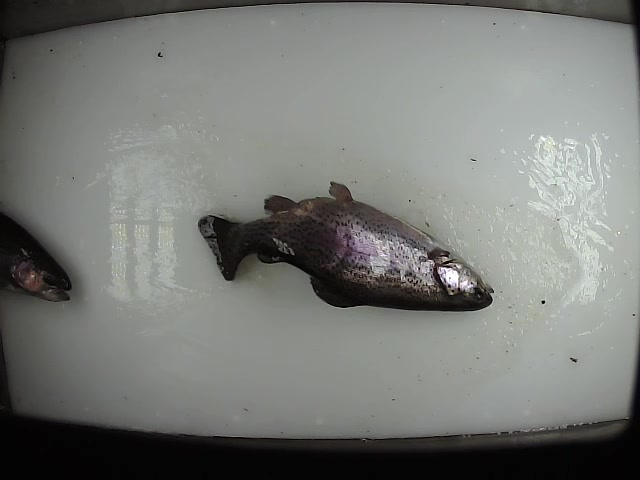Fish: (197, 180, 494, 312)
